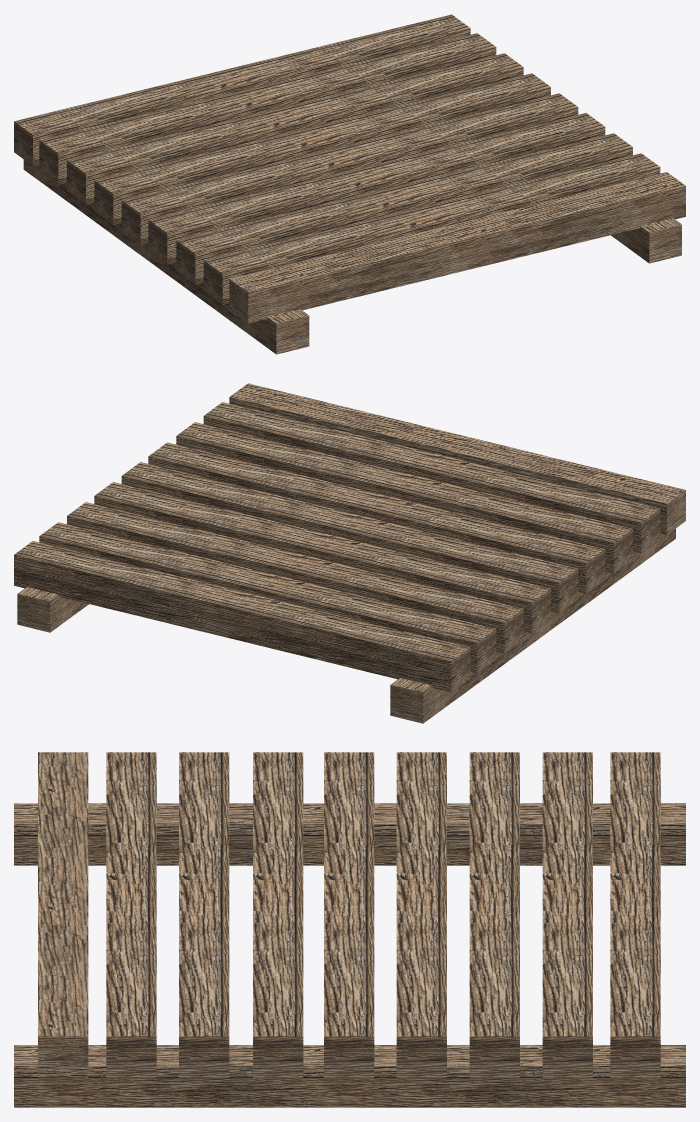
The model's file is plataforma sin cilindro1s.fbx.
3 views of the same model, one above another, from view 1: azimuth 30°, elevation 25°; view 2: azimuth 150°, elevation 25°; view 3: azimuth 270°, elevation 25° (orthographic). The views are drawn at different scales.
Parts seen in each view (by area): view 1: Cube.013; view 2: Cube.013; view 3: Cube.013.
Boxes of the visible parts, box(x1,y1,x2,y2) form: Cube.013: box(14, 14, 685, 354); Cube.013: box(14, 383, 685, 723); Cube.013: box(14, 752, 685, 1107).
Bounding box in the file's own units: 400 × 52.32 × 400.
1 material, 1 textured.
